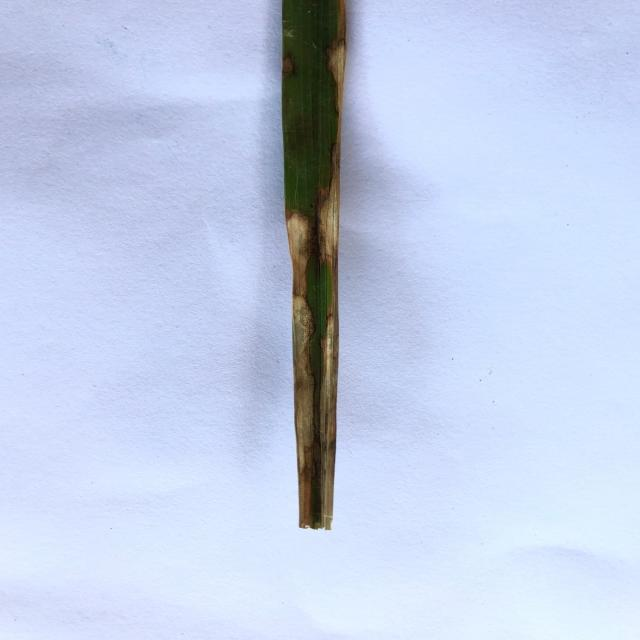Leaf Blight: (318, 0, 346, 530), (287, 212, 314, 528)
